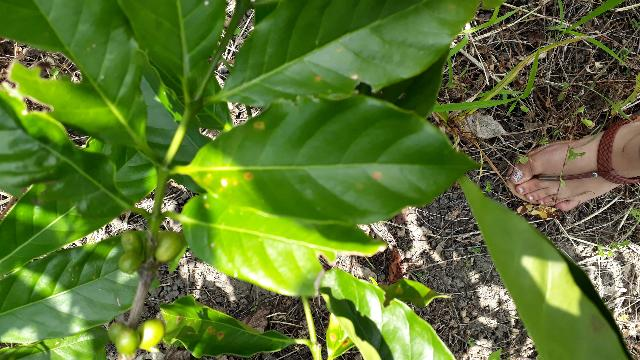rust_level_1: (191, 98, 482, 223)
